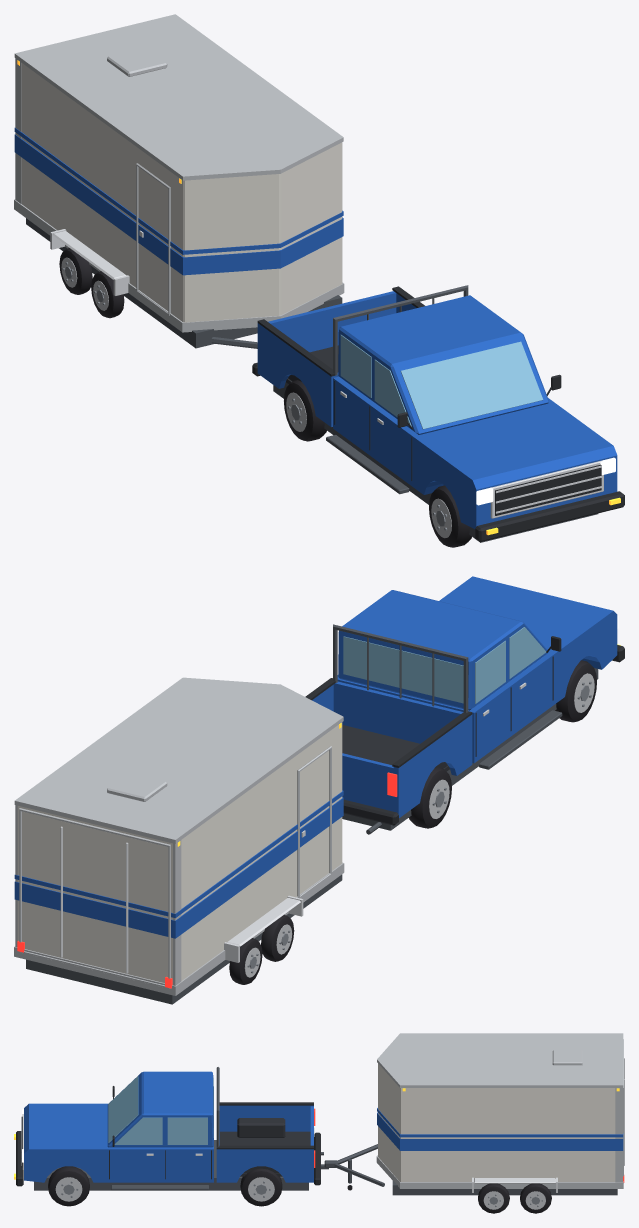
Rendered from veh_crewtruck.glb.
3 views of the same model, one above another, from view 1: azimuth 30°, elevation 25°; view 2: azimuth 150°, elevation 25°; view 3: azimuth 270°, elevation 25° (orthographic). The views are drawn at different scales.
Parts seen in each view (by area): view 1: Body, Wheel_1R, Wheel_2R, Wheel_T2R, Wheel_T1R; view 2: Body, Wheel_2R, Wheel_1R, Wheel_T1R, Wheel_T2R; view 3: Body, Wheel_1L, Wheel_2L, Wheel_T1L, Wheel_T2L.
Part boxes in pixels (<box>): Body: <box>14,14,624,542</box>; Wheel_1R: <box>429,485,471,547</box>; Wheel_2R: <box>284,380,326,441</box>; Wheel_T2R: <box>59,248,92,294</box>; Wheel_T1R: <box>91,271,124,318</box>; Body: <box>14,576,624,1004</box>; Wheel_2R: <box>409,767,451,828</box>; Wheel_1R: <box>555,660,596,722</box>; Wheel_T1R: <box>261,914,294,961</box>; Wheel_T2R: <box>229,938,262,984</box>; Body: <box>14,1033,624,1195</box>; Wheel_1L: <box>48,1166,89,1206</box>; Wheel_2L: <box>240,1168,282,1206</box>; Wheel_T1L: <box>478,1183,509,1213</box>; Wheel_T2L: <box>520,1183,551,1213</box>.
Size of the model in its own units: 2.88 by 2.85 by 12.22.
